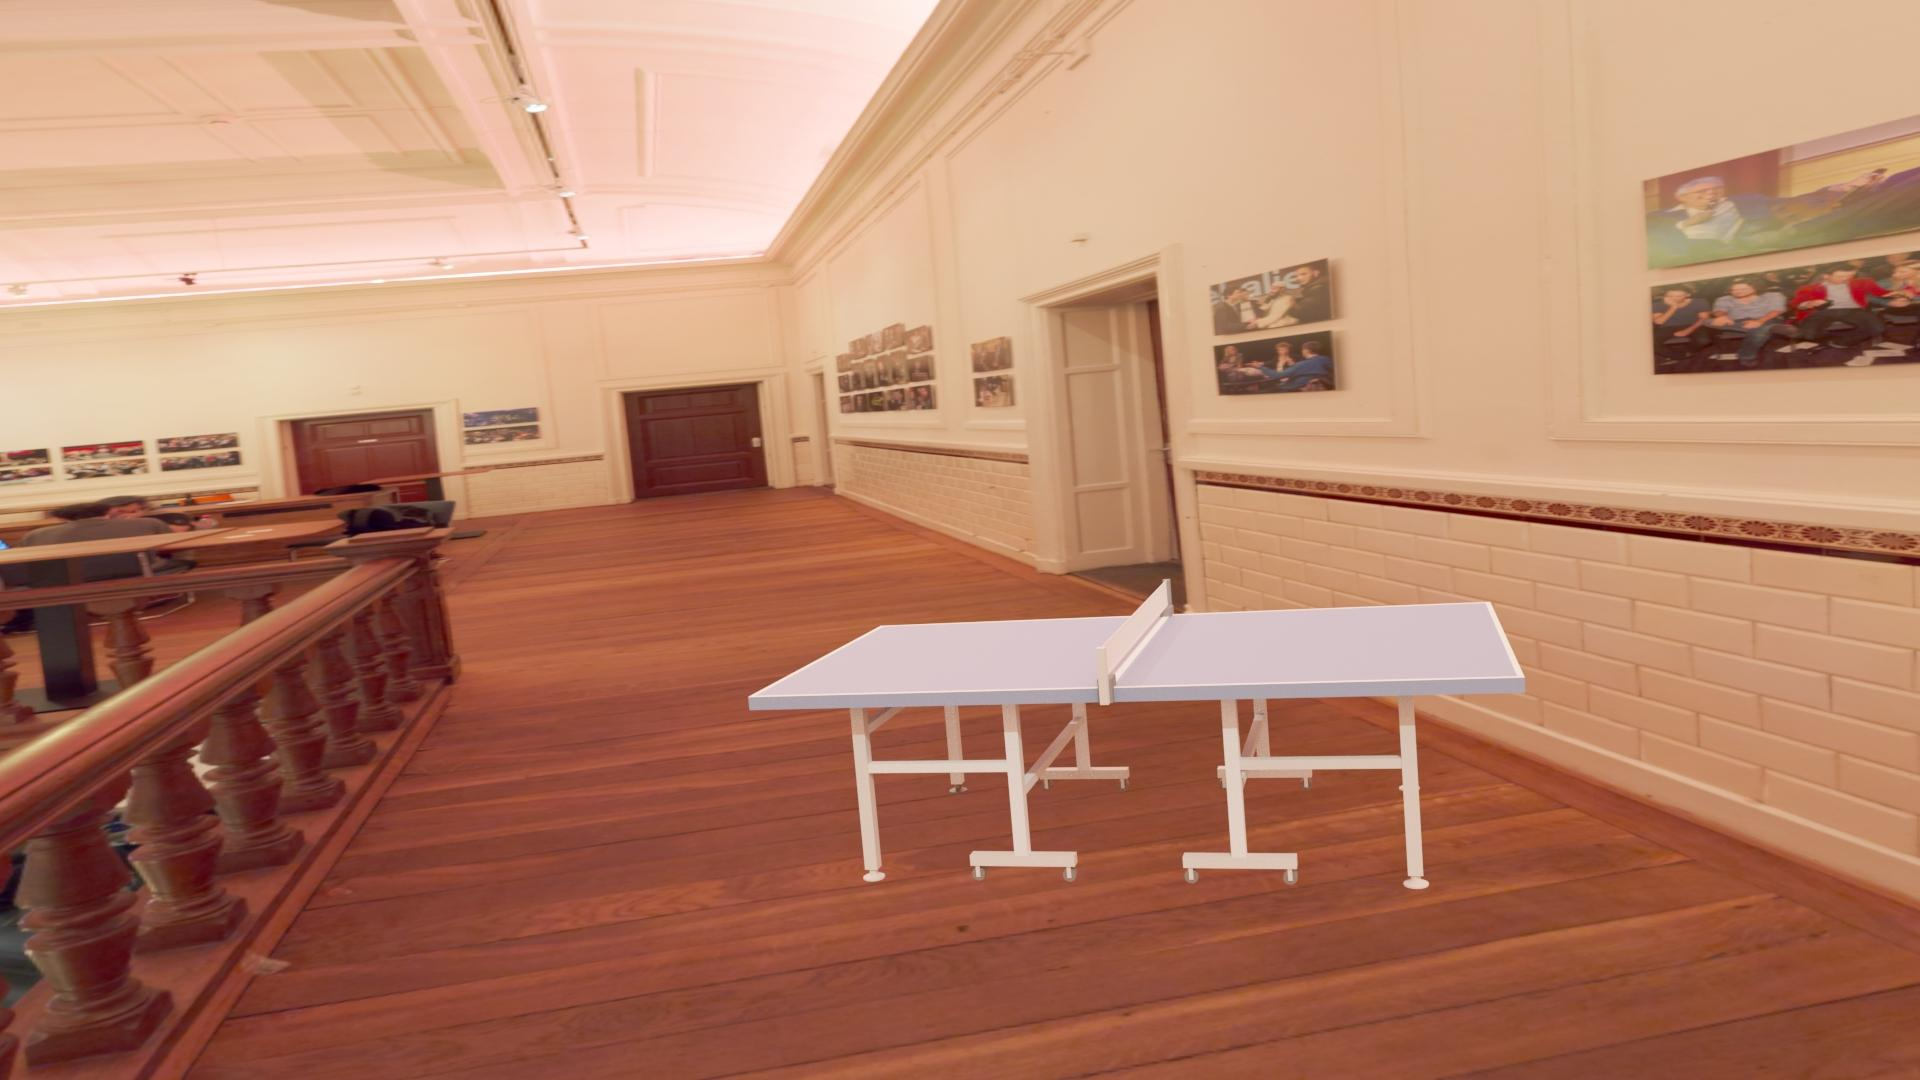table: (756, 603, 1518, 696)
